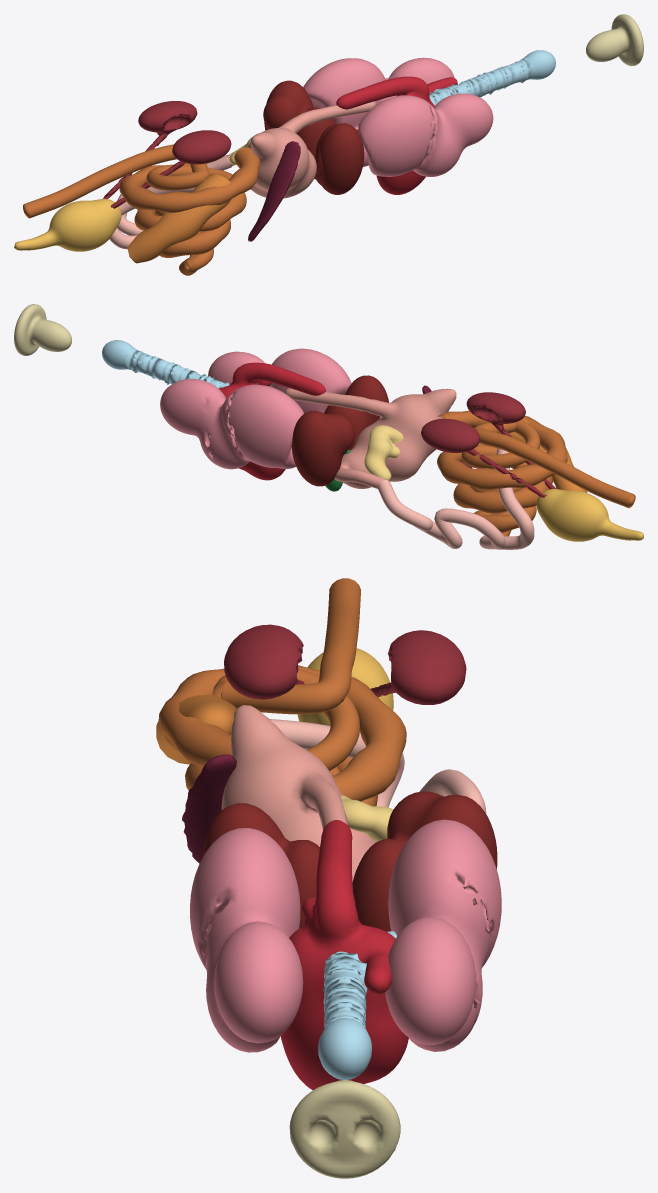
The model's file is pig_organs_model.obj.
The picture shows the model from 3 angles, top to bottom: view 1: azimuth 30°, elevation 25°; view 2: azimuth 150°, elevation 25°; view 3: azimuth 270°, elevation 25°; orthographic projection. The views are drawn at different scales.
Visible parts, largest first — view 1: pig_lungs, pig_spiral_colon, pig_liver_lobules, pig_stomach_diverticulum, pig_kidneys, pig_urinary_bladder, pig_cecum, pig_heart, pig_trachea_and_bronchus, pig_os_rostri, pig_spleen, pig_small_intestine; view 2: pig_lungs, pig_spiral_colon, pig_stomach_diverticulum, pig_liver_lobules, pig_small_intestine, pig_kidneys, pig_urinary_bladder, pig_heart, pig_trachea_and_bronchus, pig_os_rostri, pig_pancreas, pig_cecum; view 3: pig_lungs, pig_spiral_colon, pig_heart, pig_stomach_diverticulum, pig_liver_lobules, pig_kidneys, pig_os_rostri, pig_trachea_and_bronchus, pig_small_intestine, pig_spleen, pig_cecum, pig_urinary_bladder (+1 smaller).
Part boxes in pixels (x1,y1,x2,y2): pig_lungs: (303,57,493,176); pig_spiral_colon: (23,144,260,275); pig_liver_lobules: (263,80,364,194); pig_stomach_diverticulum: (227,101,376,198); pig_kidneys: (103,101,231,208); pig_urinary_bladder: (14,199,121,251); pig_cecum: (127,173,230,263); pig_heart: (336,76,457,194); pig_trachea_and_bronchus: (429,50,555,105); pig_os_rostri: (586,14,643,66); pig_spleen: (248,141,300,241); pig_small_intestine: (109,155,232,249); pig_lungs: (160,348,351,469); pig_spiral_colon: (437,410,635,536); pig_stomach_diverticulum: (284,388,456,488); pig_liver_lobules: (291,375,388,486); pig_small_intestine: (377,448,534,549); pig_kidneys: (421,392,556,497); pig_urinary_bladder: (536,489,643,541); pig_heart: (218,362,325,480); pig_trachea_and_bronchus: (102,340,229,388); pig_os_rostri: (14,304,71,355); pig_pancreas: (364,425,403,480); pig_cecum: (509,418,587,492); pig_lungs: (190,819,501,1052); pig_spiral_colon: (158,578,406,806); pig_heart: (280,820,408,1090); pig_stomach_diverticulum: (221,705,376,881); pig_liver_lobules: (202,791,497,931); pig_kidneys: (224,624,466,704); pig_os_rostri: (289,1080,400,1178); pig_trachea_and_bronchus: (318,931,396,1079); pig_small_intestine: (270,719,486,813); pig_spleen: (182,754,236,863); pig_cecum: (156,694,237,764); pig_urinary_bladder: (297,648,393,732).
Bounding box in the file's own units: 21.16 × 4.62 × 5.12.
